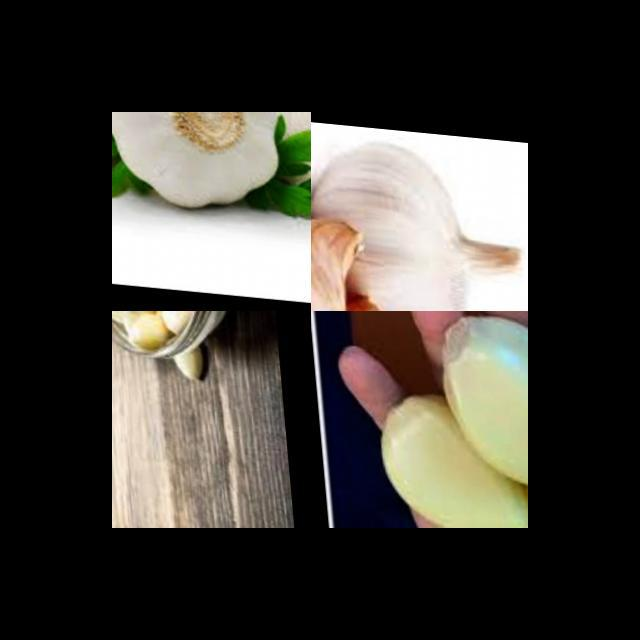garlic: (311, 118, 525, 311), (355, 386, 528, 528), (422, 311, 528, 496), (112, 112, 287, 208), (311, 201, 370, 311), (222, 112, 311, 176), (414, 493, 528, 528), (163, 331, 213, 379)
